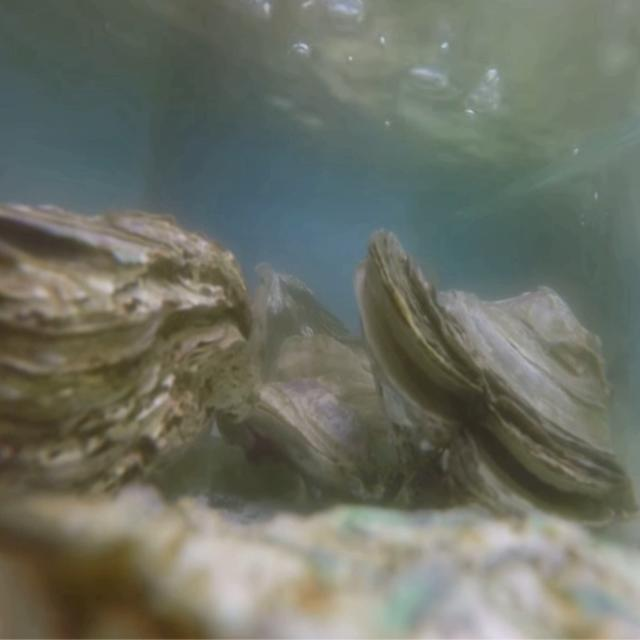Oyster-Closed: (0, 200, 256, 525), (254, 334, 414, 512)
Oyster-Indeterminate: (0, 486, 640, 640), (254, 255, 370, 372)
Oyster-Open: (355, 234, 640, 541)
